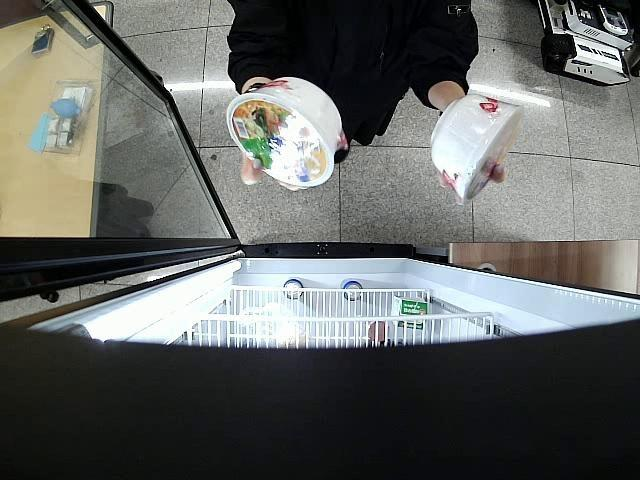09_yukGaeJang: (228, 77, 342, 188), (431, 93, 522, 206)
